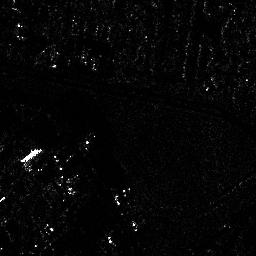ship: (19, 148, 42, 162)
